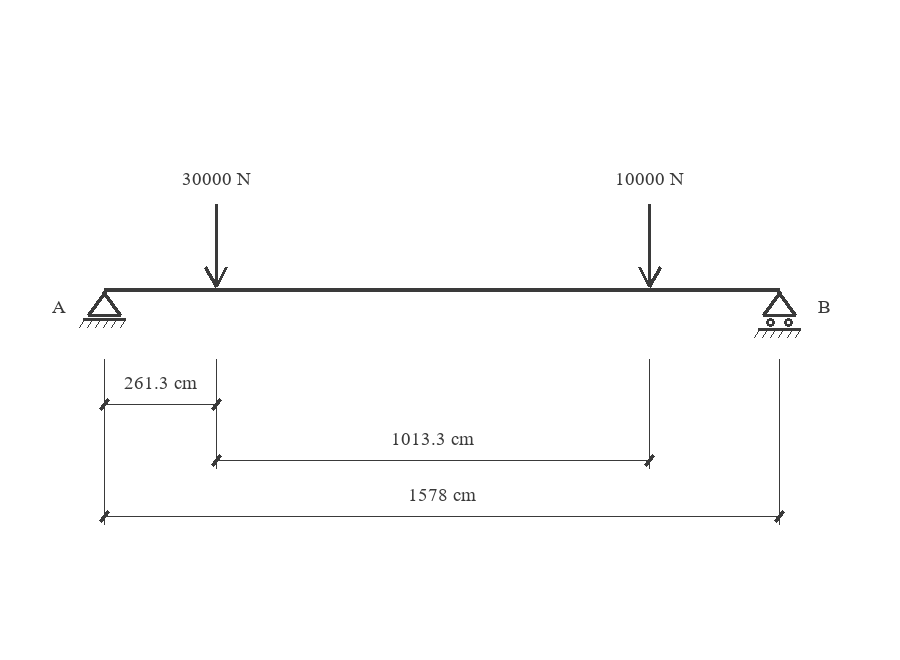pin_support: (79, 291, 126, 328)
point_load: (204, 204, 228, 288), (638, 204, 662, 288)
roller_support: (754, 291, 801, 338)
